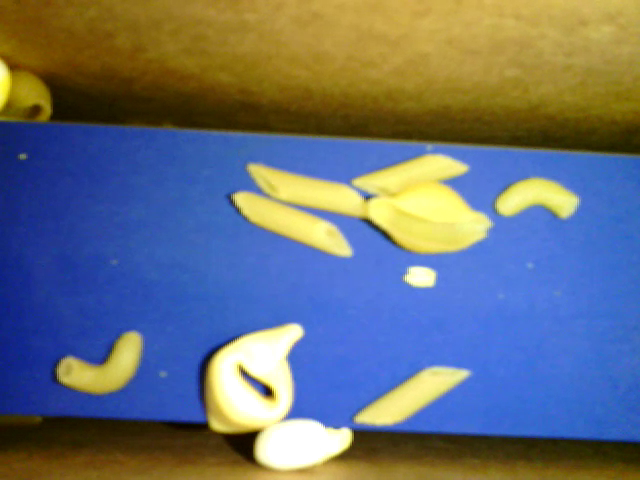elbow: (57, 329, 142, 399), (492, 175, 579, 223)
penne: (227, 187, 353, 256), (244, 162, 371, 222), (352, 364, 473, 425), (352, 151, 469, 198)
shell: (366, 184, 494, 257), (1, 69, 55, 126)
tortellini: (203, 322, 306, 432)
